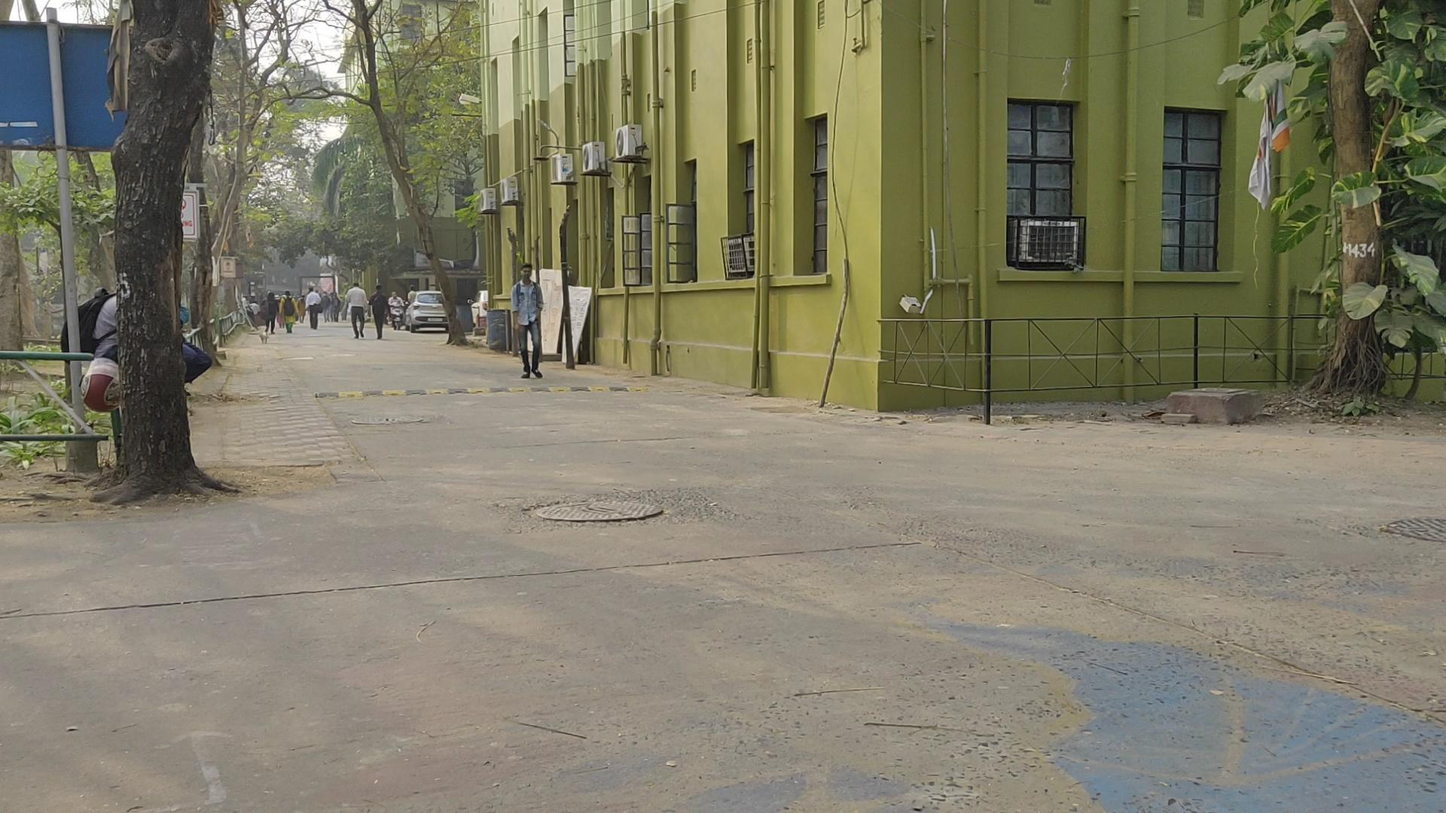bike: (387, 291, 409, 330)
car: (404, 291, 452, 334)
